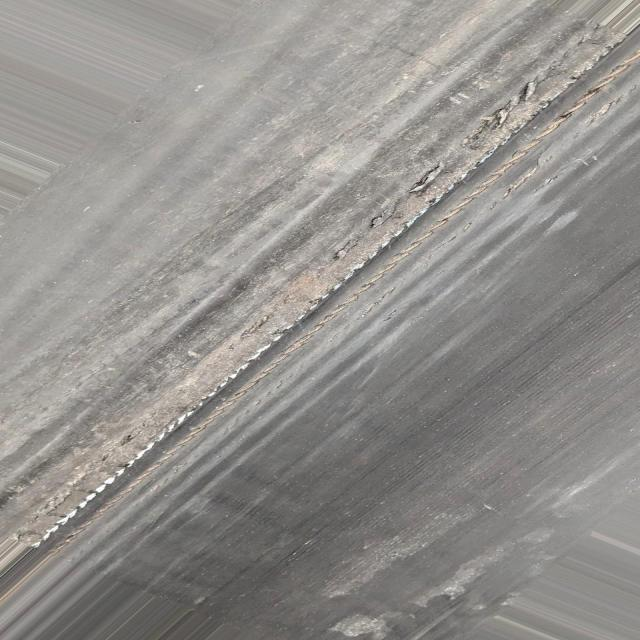Wear: (32, 30, 628, 557)
